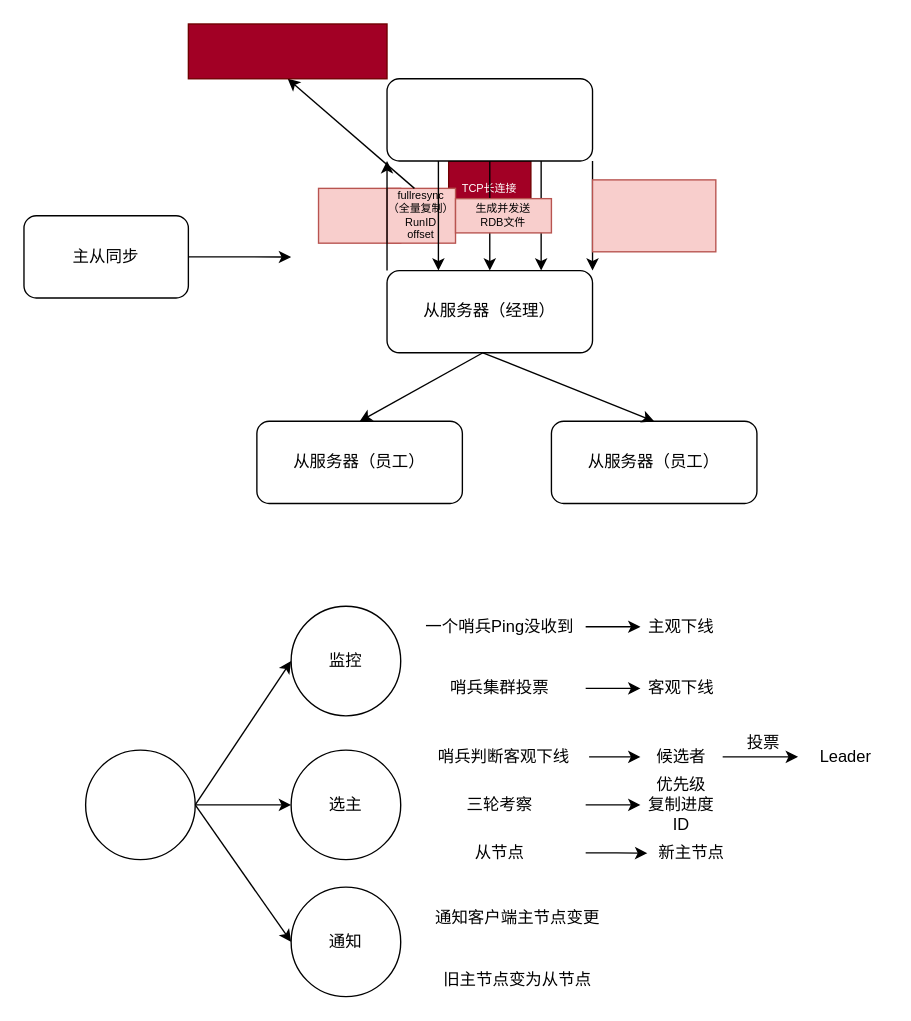
Some shapes in this 911 by 1021 pixel diagram are drawn without their labels. Each missing label, with the centre of its shape:
"psync RunID offset" belongs at point 359,215.
"replication buff 新的写命令 （生成RDB文件过程 发送RDB文件过程 加载RDB文件过程）" belongs at point 653,215.
"主服务器" belongs at point 489,119.
"哨兵" belongs at point 139,804.
"增量复制 复制断线期间的数据 repl_backlog_buff 根据主从服务器各自的偏移量" belongs at point 287,51.
